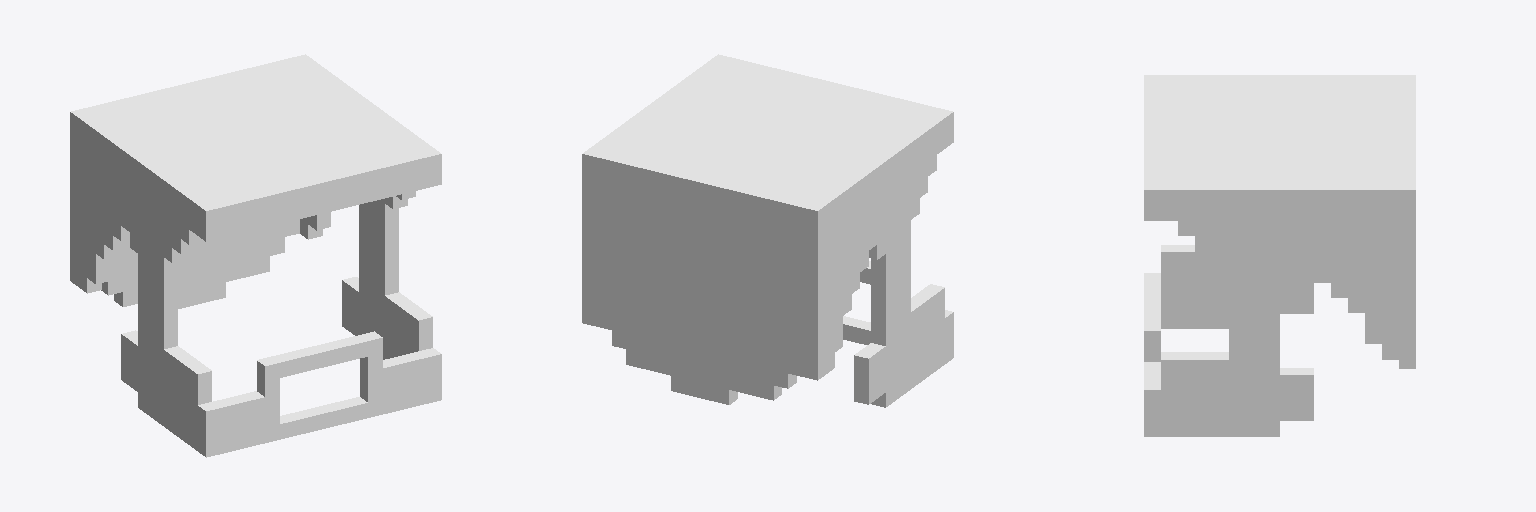
Rendered from hair0.obj.
3 views of the same model, side by side, from view 1: azimuth 30°, elevation 25°; view 2: azimuth 150°, elevation 25°; view 3: azimuth 270°, elevation 25° (orthographic).
Bounding box in the file's own units: 0.8 × 0.8 × 0.8.